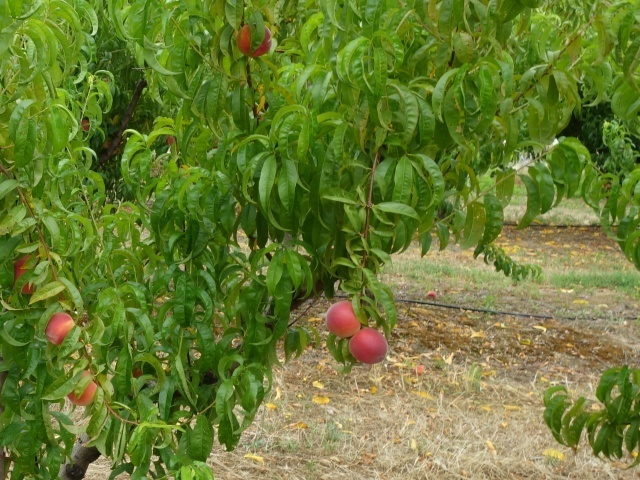peach: (7, 248, 46, 298), (345, 325, 390, 367), (321, 298, 363, 340), (234, 18, 276, 58), (65, 367, 101, 408), (43, 309, 78, 348)
